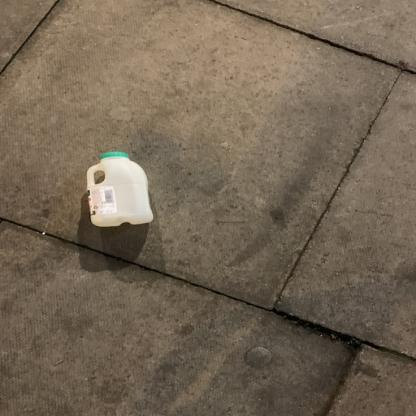trash: (84, 149, 160, 230)
